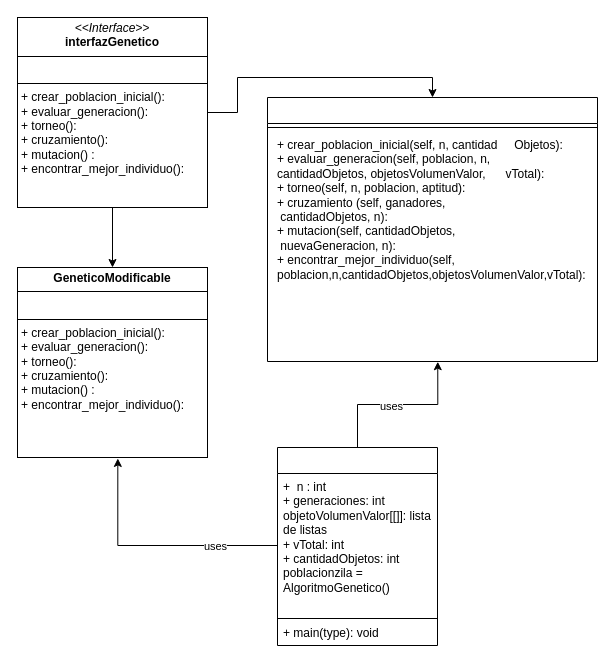
Image size: 615x666. Some labels were removed from this diagram. The shapes that lost their labels are listed below. From the top down, each one's box as (x1, y1, x2, y2) in pixels, then its label:
(266, 96, 598, 362): AlgortimoGenetico
(276, 446, 438, 646): MainGen
